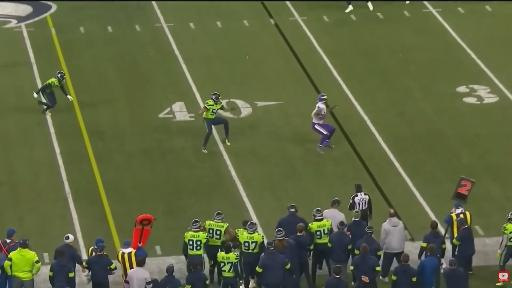Helmet: (190, 219, 201, 231), (211, 92, 222, 104), (247, 221, 257, 232), (275, 228, 285, 239), (313, 208, 323, 219), (56, 71, 66, 81), (214, 211, 223, 221), (317, 94, 327, 103), (507, 212, 511, 222)
Jersey: (205, 221, 228, 245), (217, 252, 239, 277), (308, 220, 331, 243), (184, 232, 208, 254), (239, 232, 264, 253), (203, 100, 223, 118), (312, 103, 326, 123), (44, 78, 62, 90), (503, 223, 511, 245), (236, 228, 247, 238)
Player: (205, 212, 235, 283), (308, 208, 333, 285), (199, 92, 230, 152), (239, 221, 265, 287), (34, 71, 72, 114), (183, 219, 209, 273), (312, 94, 335, 153), (498, 212, 511, 270), (346, 2, 353, 12)
